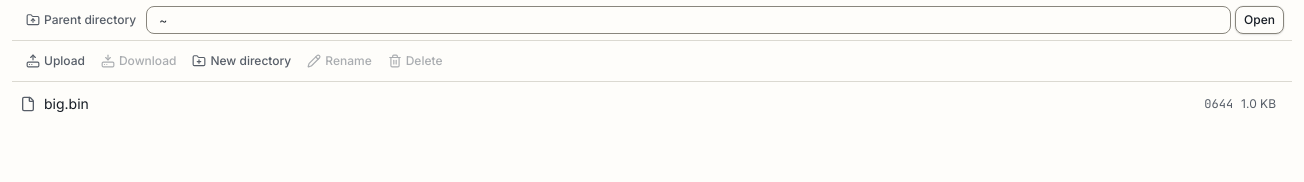
Test: SftpPanel › keeps the previous listing when navigation fails and retries the failed path
Expected: the text "big.bin" is shown, x1=44 y1=95 x2=89 y2=112
Note: Navigate to a bad path.
Replace the text in the field with placeholder "Path" with "/nope" at (689, 20), box x1=146 y1=6 x2=1231 y2=34
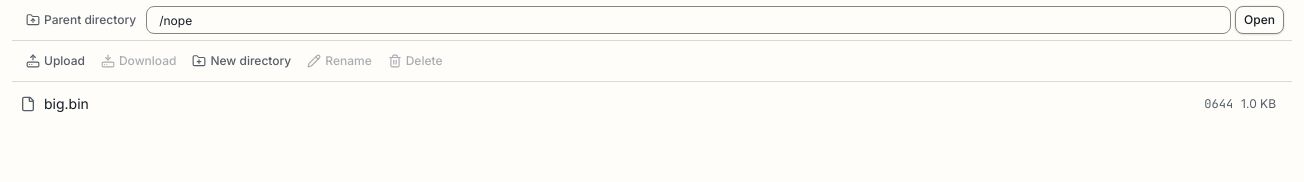
Click the button "Open" at (1260, 20), box x1=1235 y1=6 x2=1284 y2=34
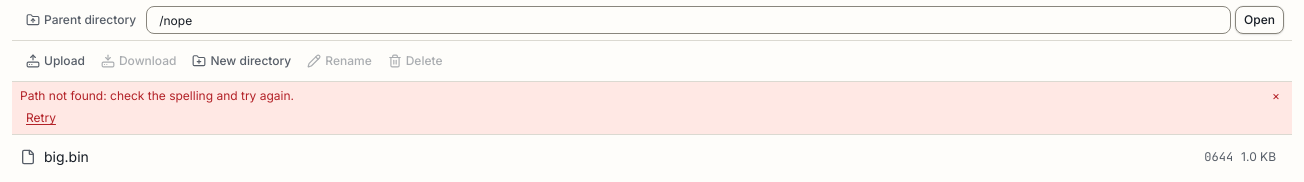
Expected: the text "big.bin" is shown, x1=44 y1=148 x2=89 y2=165
Expected: the text "Path not found: check the spelling and try again." is shown, x1=20 y1=88 x2=294 y2=104
Click the button "Retry" at (41, 118), box x1=20 y1=108 x2=62 y2=128
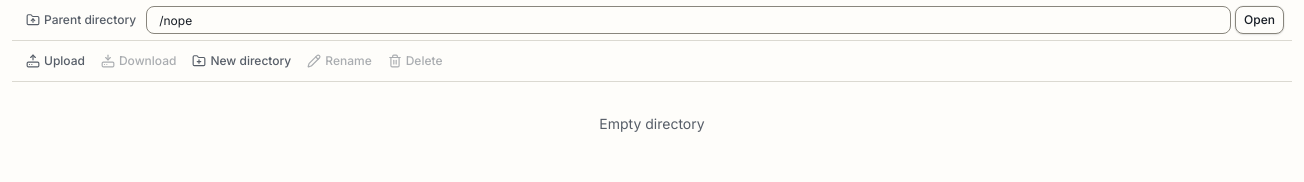
Expected: the text "Path not found: check the spelling and try again." is gone
